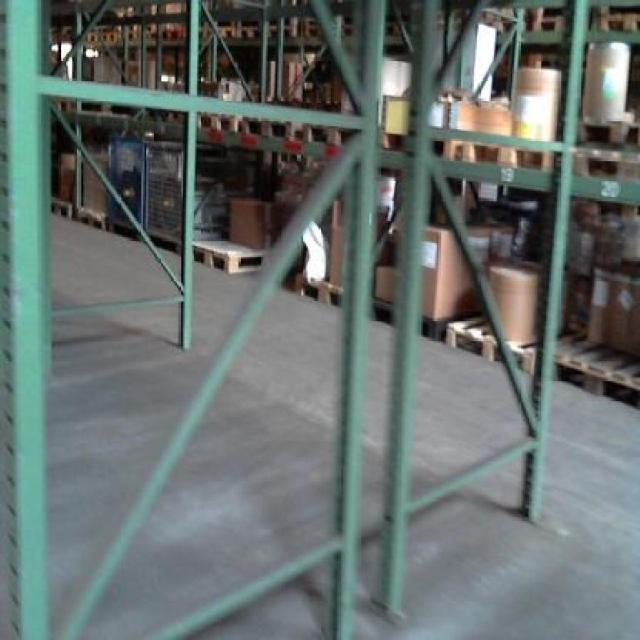pallets: (191, 238, 263, 271)
